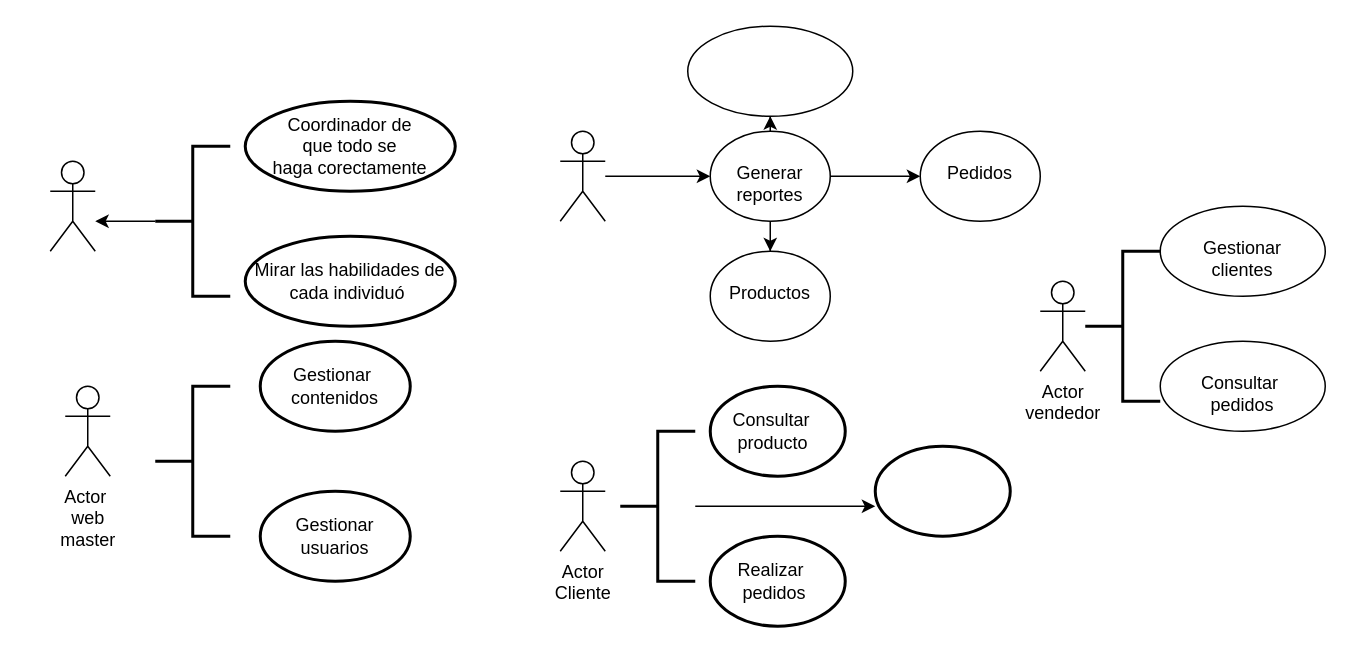
The diagram is 1352 pixels wide and 654 high, and some of its shapes have lost their labels. The box of each missing label's shape, as (x1, y1, x2, y2) in pixels:
Actor gerente: (559, 130, 605, 221)
Autor coordinador: (49, 160, 95, 251)
Clientes: (686, 25, 853, 116)
Entrar en la plataforma: (873, 444, 1011, 537)
